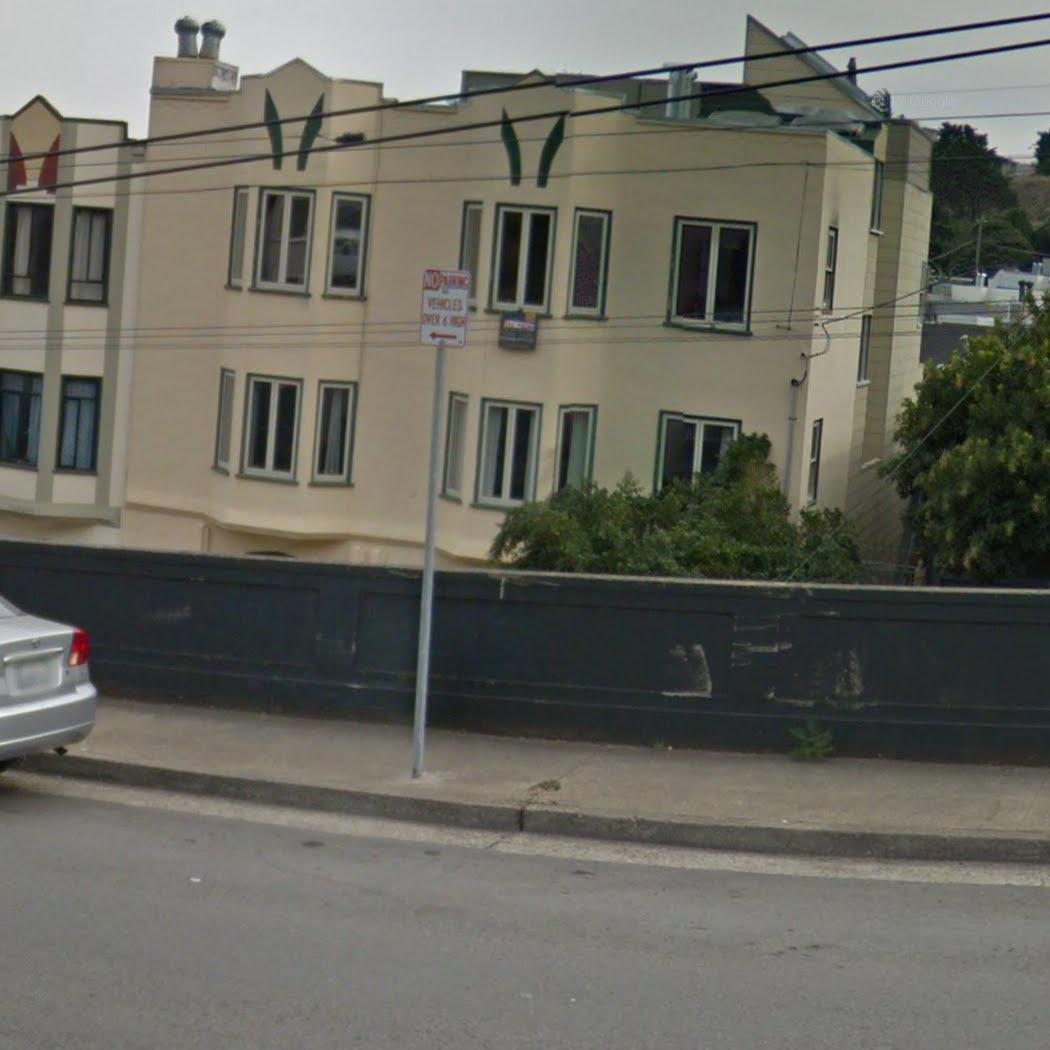No Parking: (416, 266, 473, 350)
